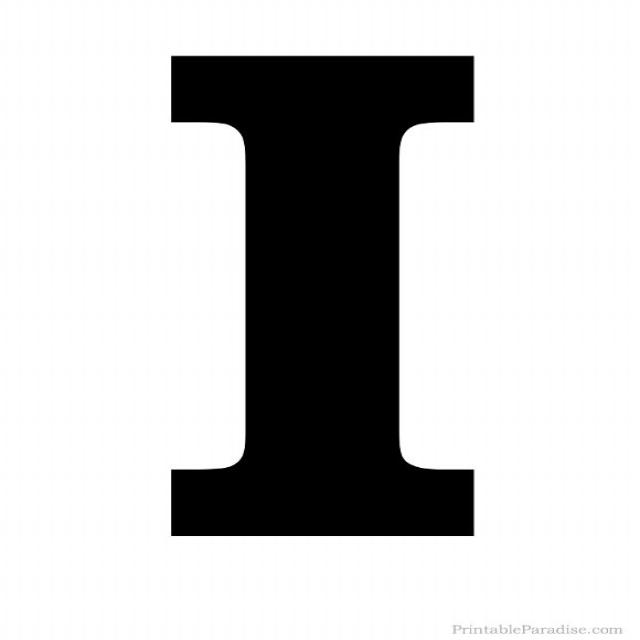I: (120, 21, 504, 576)
